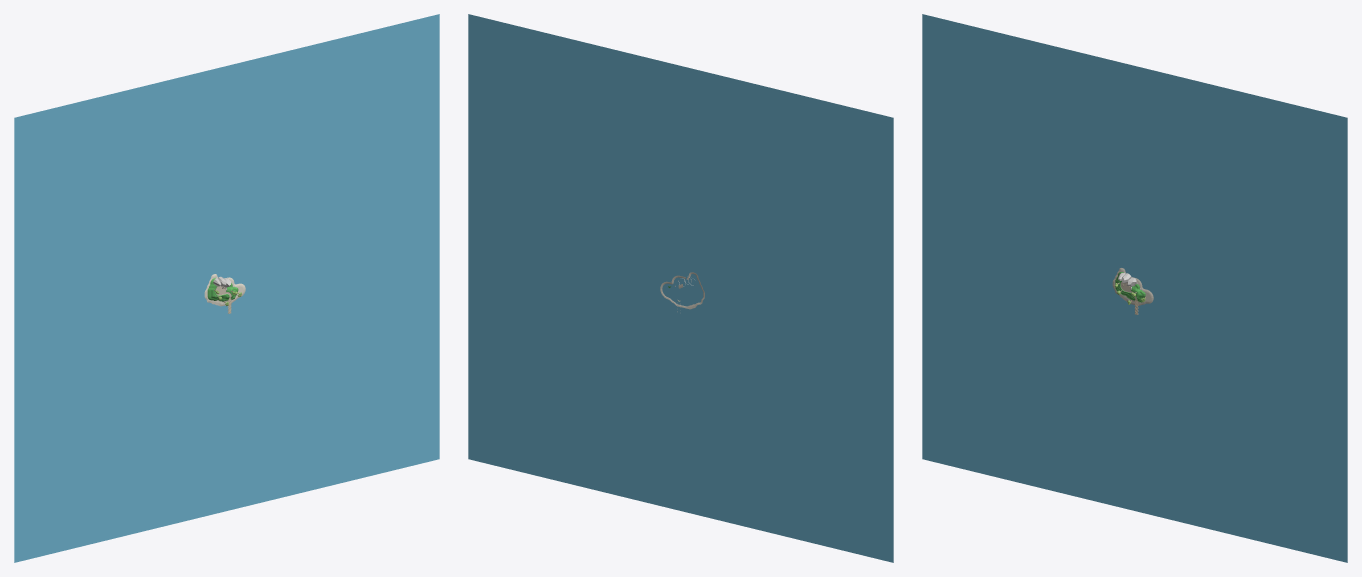
The model's file is modular_terrain_island.glb.
3 renders of one model, left to right at view 1: azimuth 30°, elevation 25°; view 2: azimuth 150°, elevation 25°; view 3: azimuth 330°, elevation 25°, orthographic.
Visible parts, largest first — view 1: object1.009; view 2: object1.009; view 3: object1.009.
Boxes of the visible parts, <box> form: object1.009: <box>14,14,439,562</box>; object1.009: <box>468,14,893,562</box>; object1.009: <box>922,14,1347,562</box>.
Bounding box in the file's own units: 300 × 300 × 7.8.
